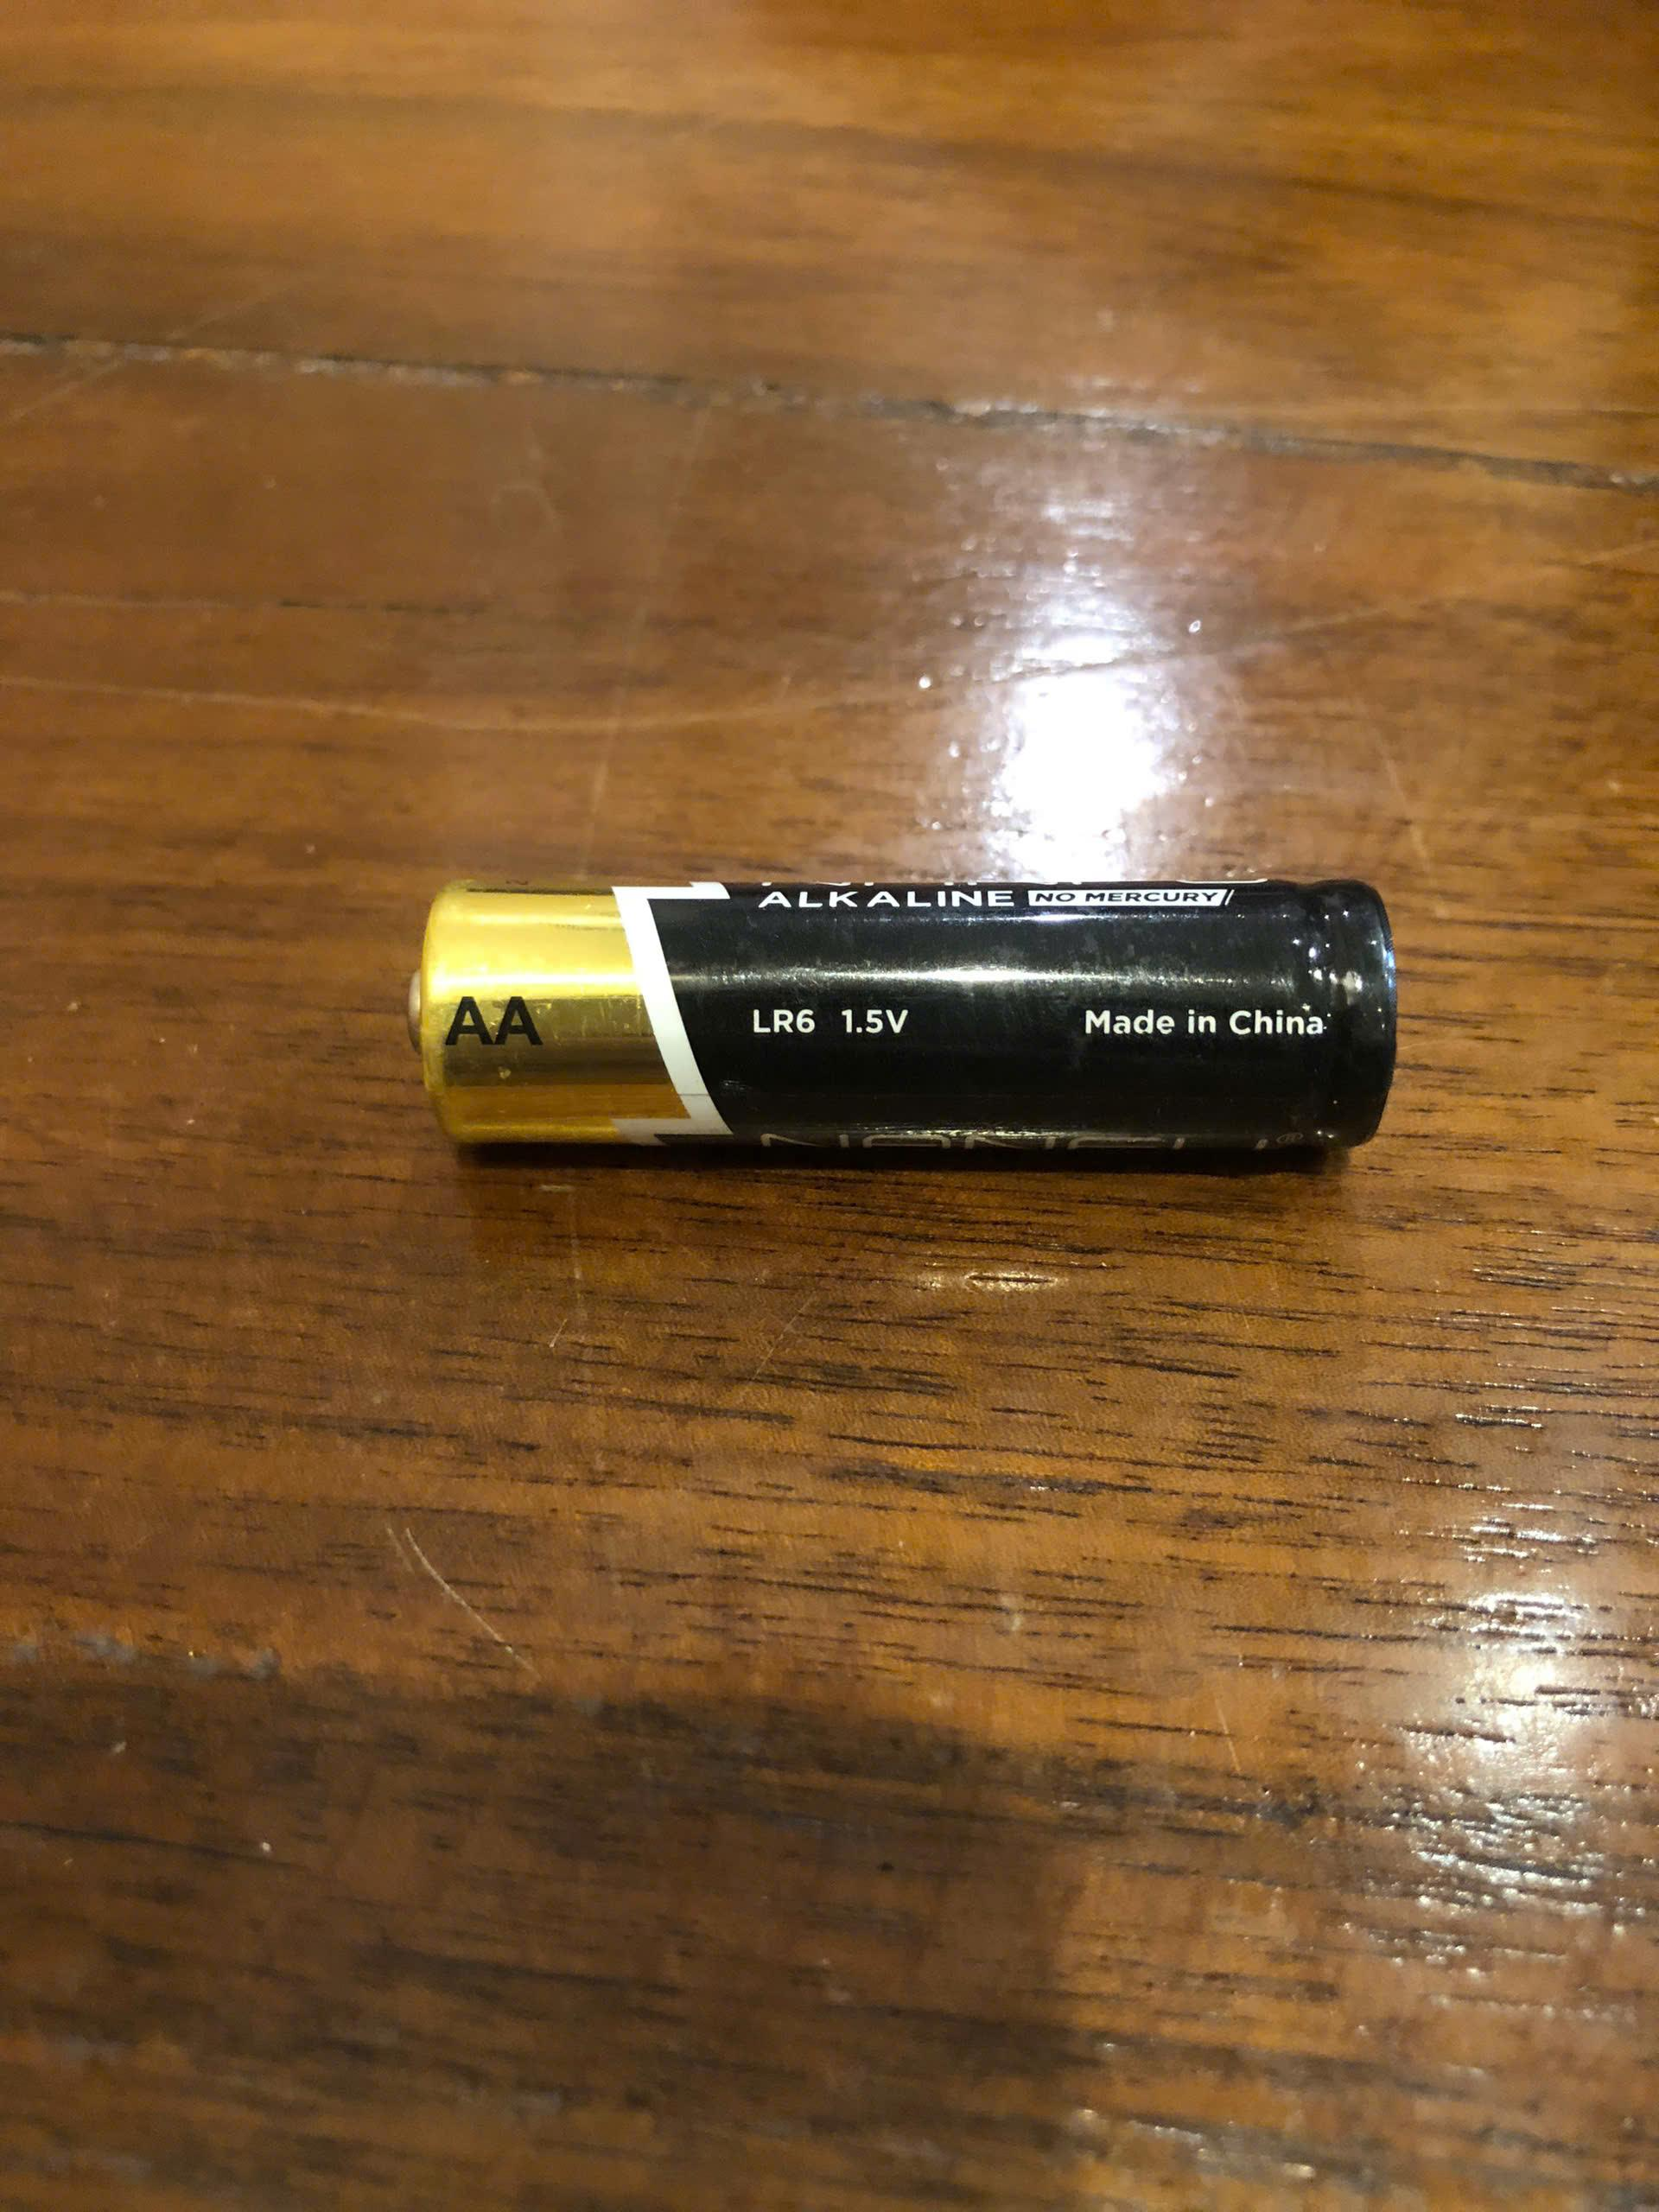Con lai: (406, 874, 1403, 1184)
